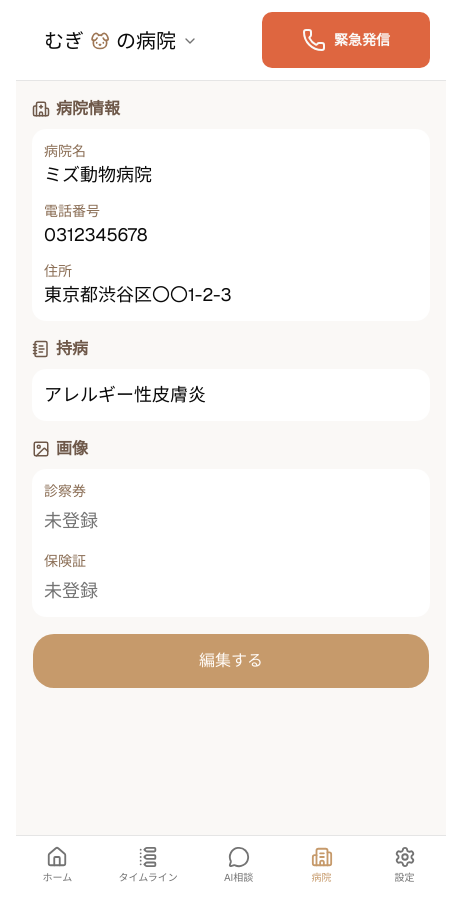
Test: HospitalPage › キャンセル › UT-F-309: 編集中に値を変更してキャンセルすると元の値にresetされ閲覧モードに戻る
Click the button "編集する". click: click(231, 661)
box: x1=32 y1=633 x2=430 y2=689
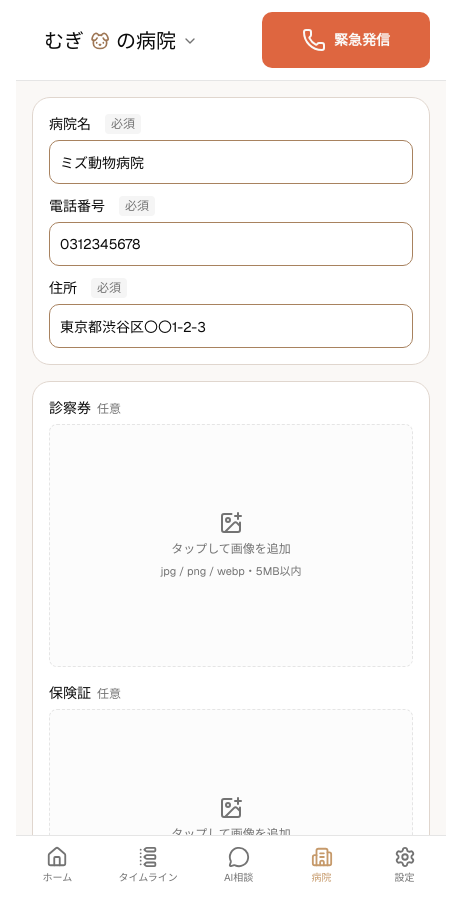
Replace the text in the field labelled "病院名 必須" with "変更後の病院名". click: (231, 162)
box: x1=49 y1=140 x2=413 y2=184
(page scrolled)
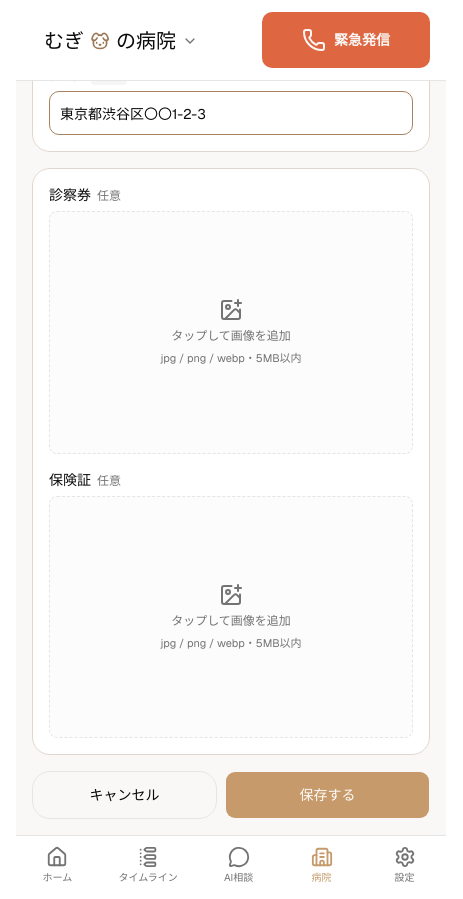
Click the button "キャンセル". click: click(124, 795)
box: x1=32 y1=771 x2=217 y2=819
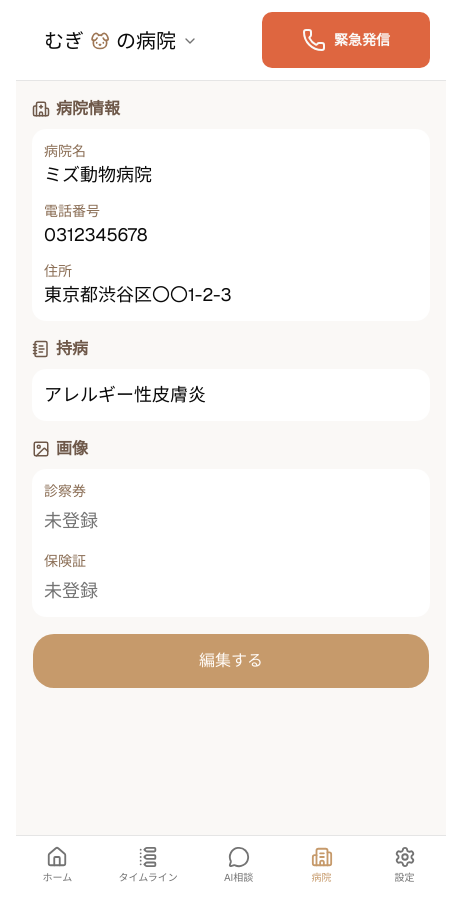
expect the text "ミズ動物病院" is shown: met, box x1=44 y1=163 x2=152 y2=186
